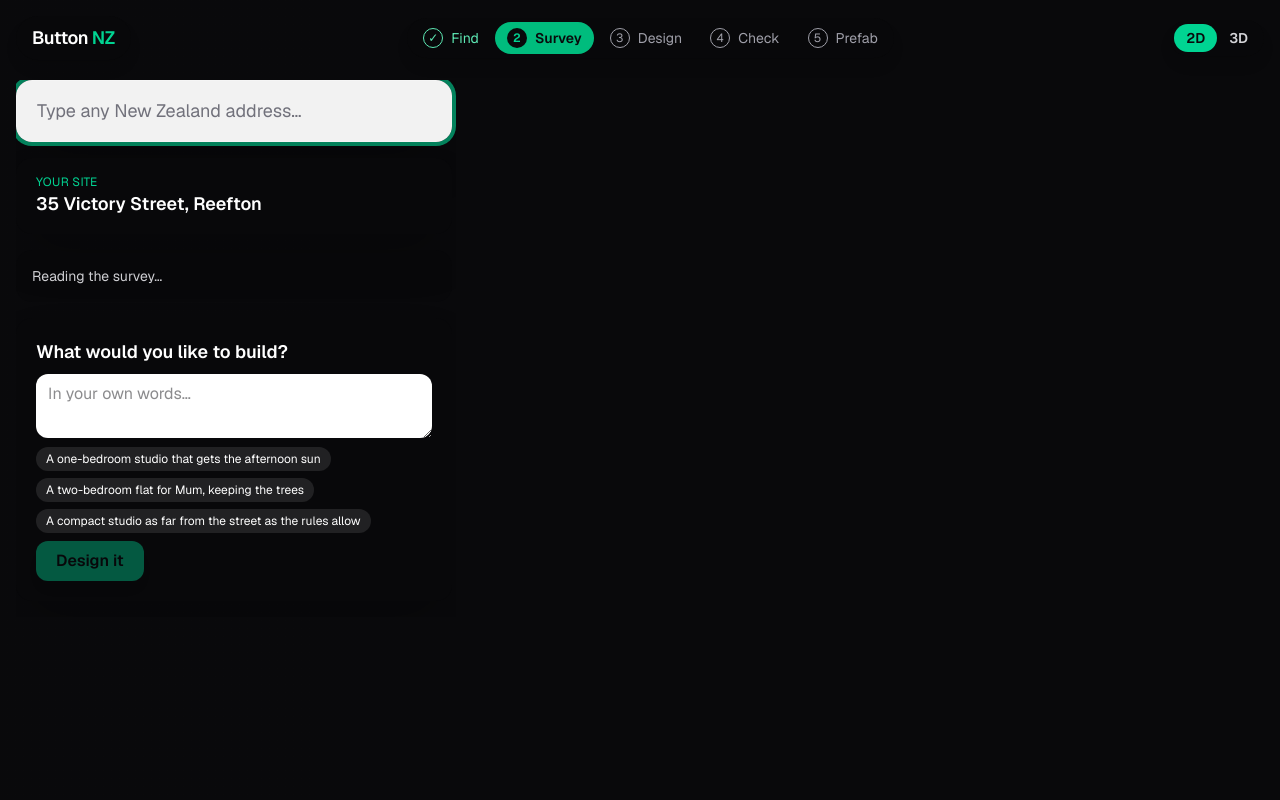
Scenario: a ready site › keeps a newer design's link when a slow link to another site's design answers
Step 1. Click the button "A one-bedroom studio that gets the afternoon sun" → [183, 459], box [36,447,331,471]
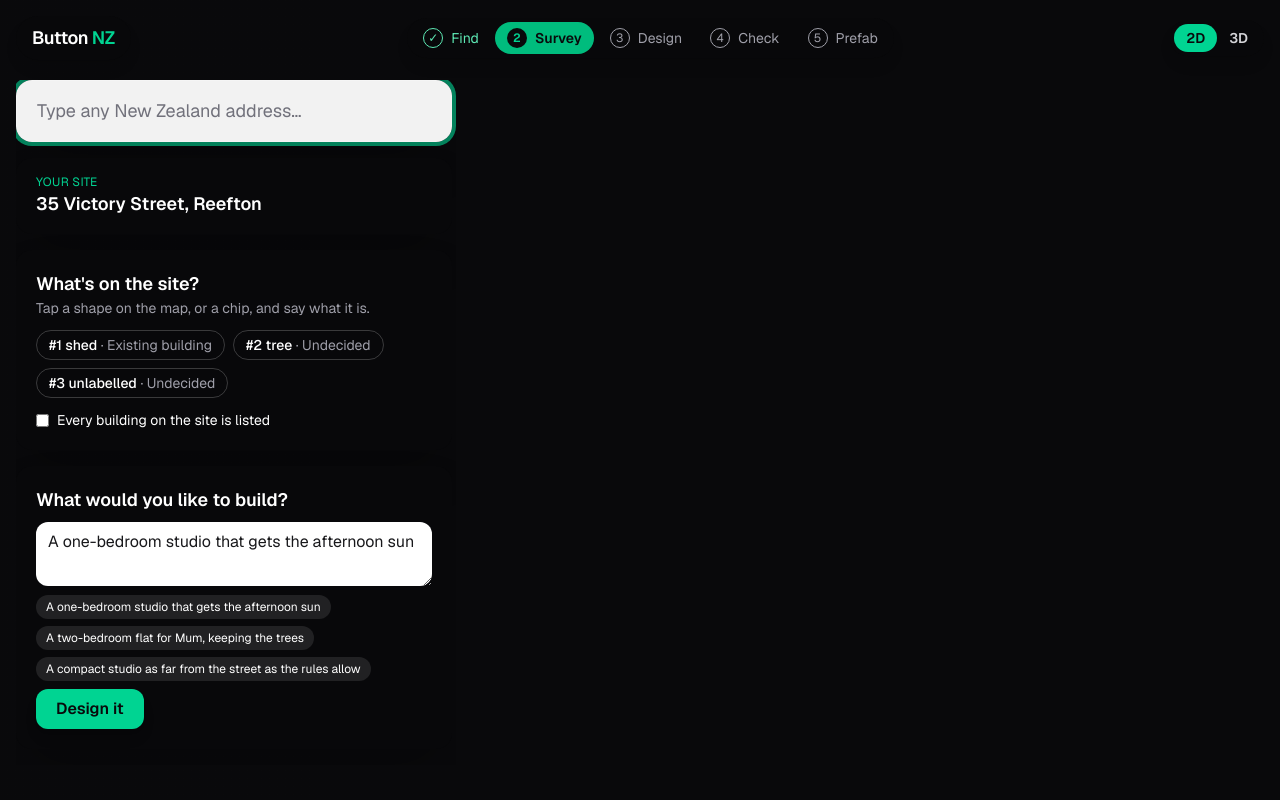
Step 2. Click the button "Design it" → [90, 709], box [36,689,144,729]
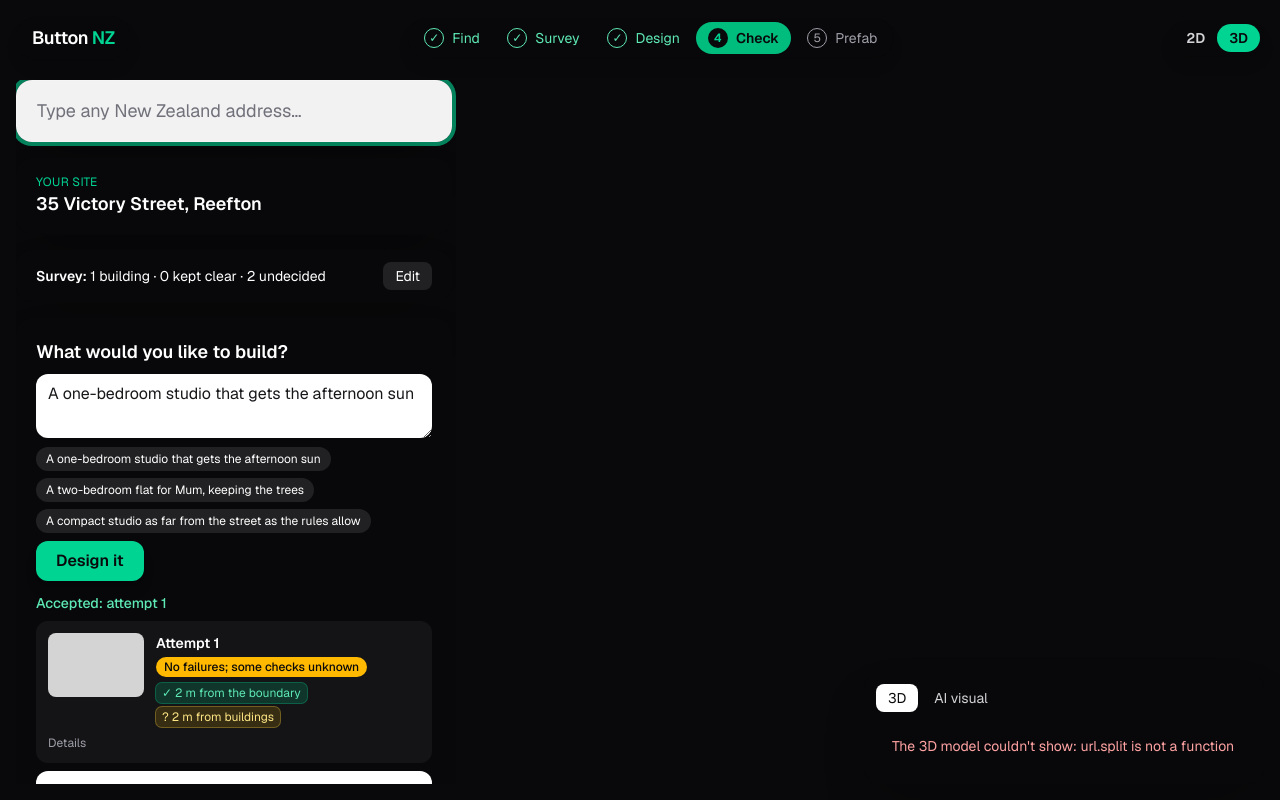
Check: the text "Accepted: attempt 1" is shown, box [36,594,167,612]
